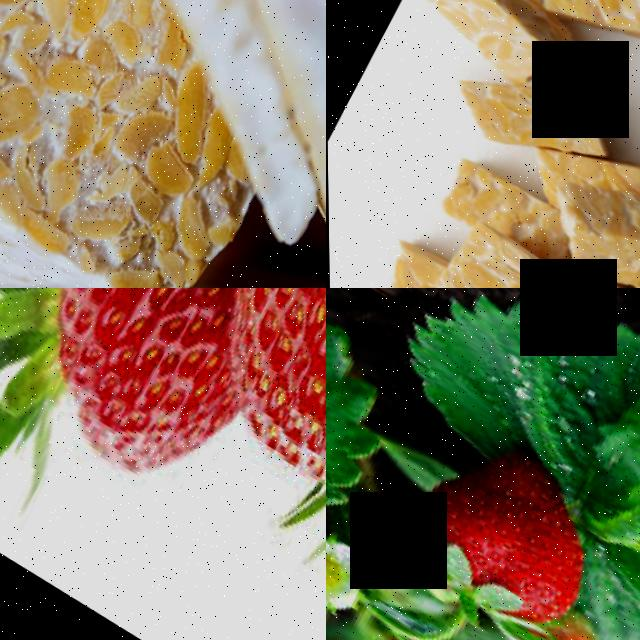strawberry: (0, 288, 303, 479), (395, 436, 607, 640), (222, 288, 326, 567)
tempeh: (0, 0, 252, 288), (425, 203, 582, 288), (115, 235, 326, 288), (522, 0, 640, 72)
tofu: (451, 41, 611, 190), (413, 0, 593, 101), (540, 146, 640, 288), (431, 140, 553, 248)
